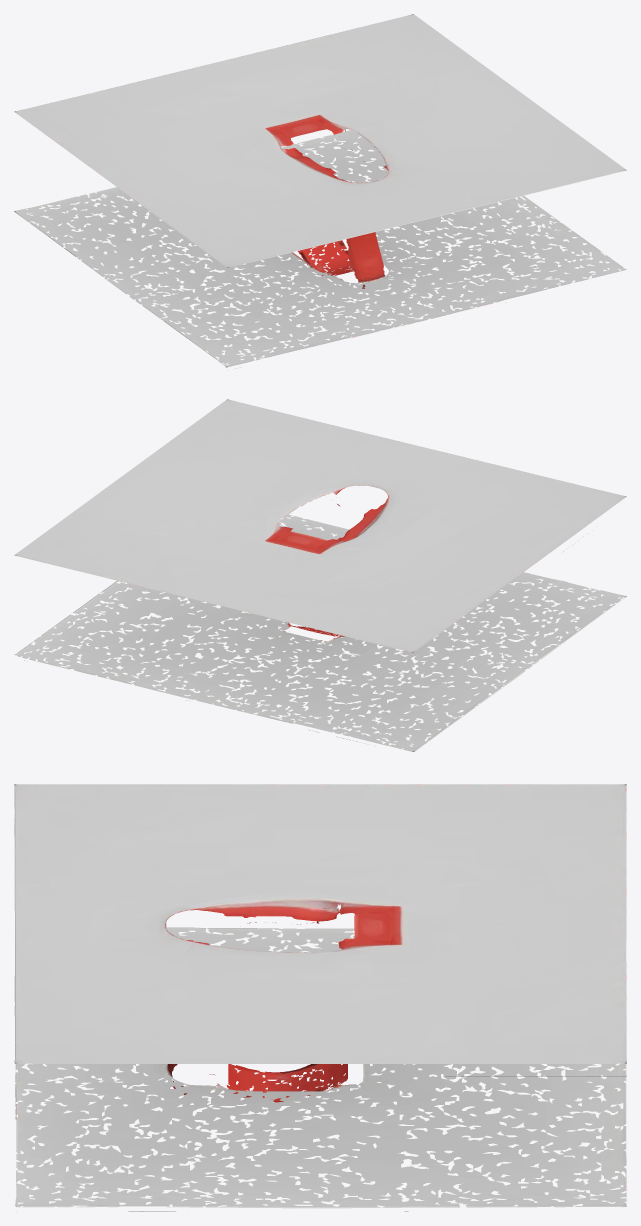
The picture shows the model from 3 angles, top to bottom: view 1: azimuth 30°, elevation 25°; view 2: azimuth 150°, elevation 25°; view 3: azimuth 270°, elevation 25°; orthographic projection. The views are drawn at different scales.
Visible parts, largest first — view 1: geometry_0; view 2: geometry_0; view 3: geometry_0.
Boxes of the visible parts, x1,y1,x2,y2 form: geometry_0: (14,14,626,367); geometry_0: (14,399,626,751); geometry_0: (14,784,626,1211).
Bounding box in the file's own units: 1 × 0.2897 × 0.9254.
1 material, 1 textured.
